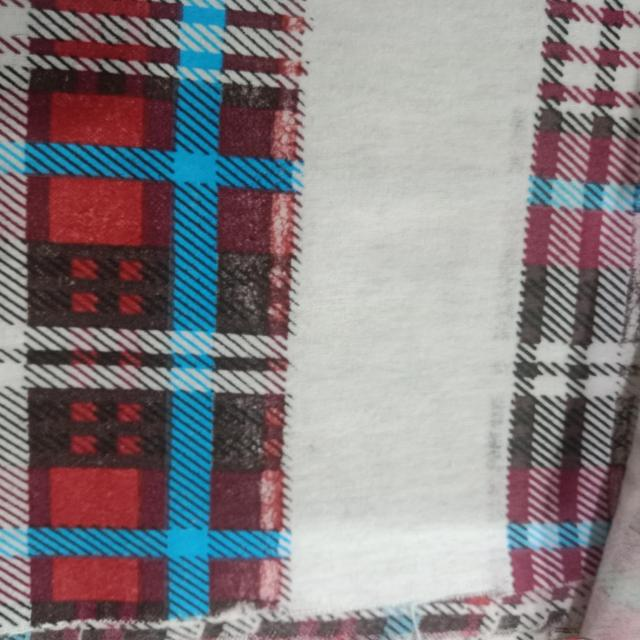selvet: (274, 0, 548, 623)
